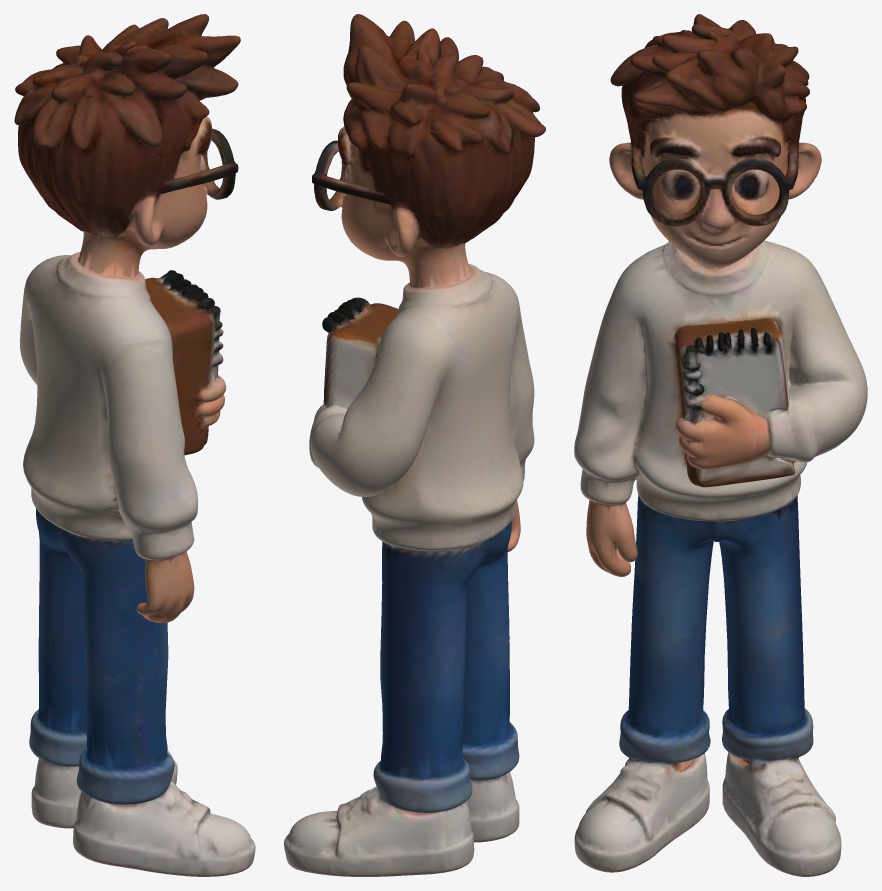
File: audience-02.glb
The picture shows the model from 3 angles, left to right: view 1: azimuth 30°, elevation 25°; view 2: azimuth 150°, elevation 25°; view 3: azimuth 270°, elevation 25°; orthographic projection.
Visible parts, largest first — view 1: tripo_node_79801701-7cfa-425e-aac9-43510d7ebbd7; view 2: tripo_node_79801701-7cfa-425e-aac9-43510d7ebbd7; view 3: tripo_node_79801701-7cfa-425e-aac9-43510d7ebbd7.
Boxes of the visible parts, left/top/right/bottom form: tripo_node_79801701-7cfa-425e-aac9-43510d7ebbd7: left=14, top=14, right=255, bottom=876; tripo_node_79801701-7cfa-425e-aac9-43510d7ebbd7: left=284, top=14, right=545, bottom=876; tripo_node_79801701-7cfa-425e-aac9-43510d7ebbd7: left=574, top=14, right=867, bottom=876.
Size of the model in its own units: 0.4313 by 1.7 by 0.5489.
Materials: 1 (1 with a texture image).
